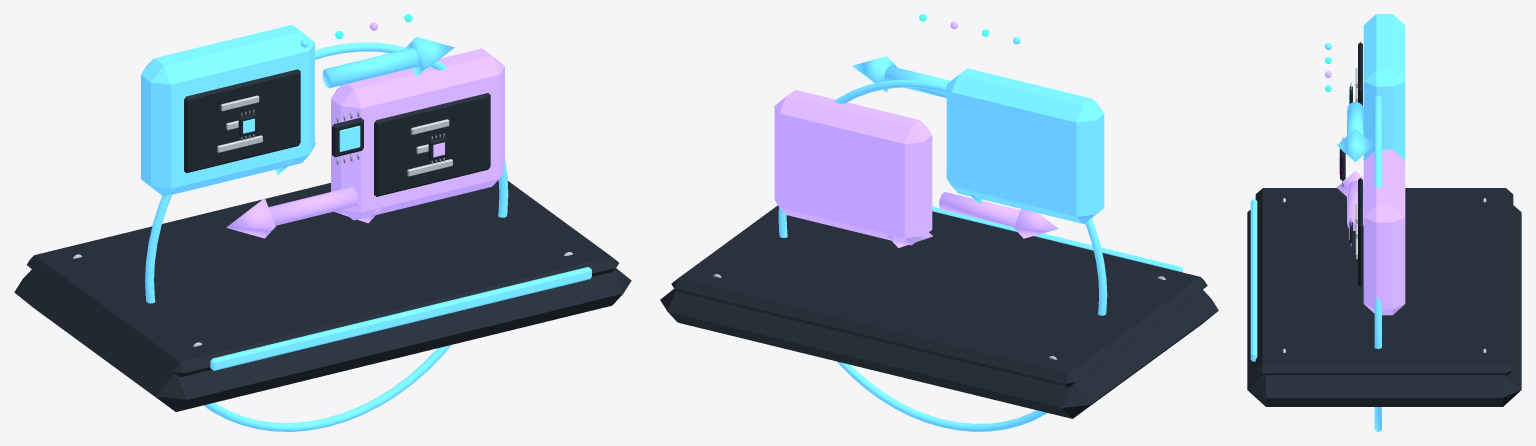
Rendered from Artifact_DSP.glb.
The picture shows the model from 3 angles, left to right: view 1: azimuth 30°, elevation 25°; view 2: azimuth 150°, elevation 25°; view 3: azimuth 270°, elevation 25°; orthographic projection. The views are drawn at different scales.
Visible parts, largest first — view 1: Artifact_DSP_Body; view 2: Artifact_DSP_Body; view 3: Artifact_DSP_Body.
Boxes of the visible parts, <box> form: Artifact_DSP_Body: <box>14,14,631,431</box>; Artifact_DSP_Body: <box>660,14,1218,431</box>; Artifact_DSP_Body: <box>1247,14,1521,431</box>.
Bounding box in the file's own units: 2.2 × 1.86 × 1.32.
